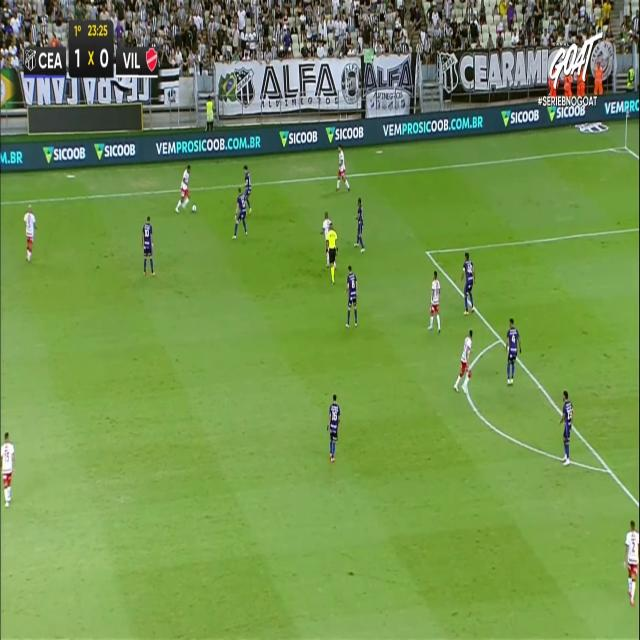ball: (190, 203, 197, 215)
player: (624, 520, 639, 604), (454, 328, 473, 391), (505, 317, 521, 385), (0, 430, 14, 506), (559, 389, 573, 464), (460, 250, 475, 314), (344, 263, 358, 327), (233, 187, 250, 239), (327, 394, 340, 462), (427, 269, 441, 332), (142, 214, 155, 275), (175, 163, 191, 212), (23, 203, 36, 261), (353, 197, 365, 252), (336, 144, 350, 191), (244, 164, 254, 213), (320, 210, 332, 243)
referee: (325, 221, 338, 283)
